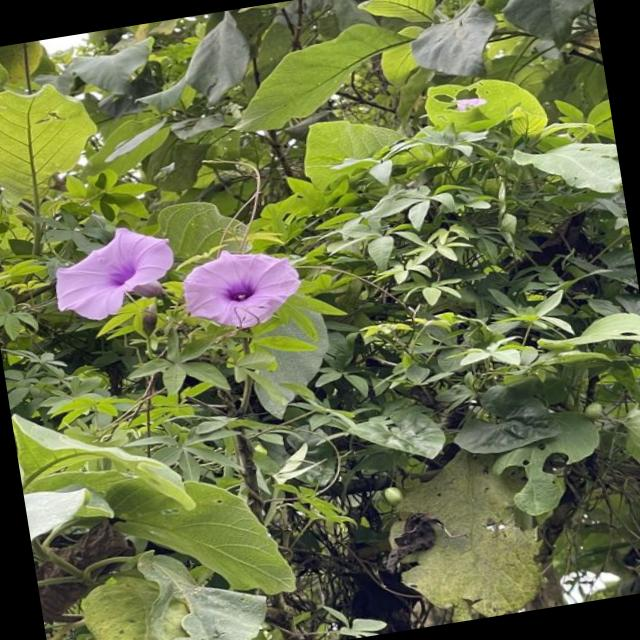ipomoea: (44, 218, 188, 330), (174, 238, 312, 340)
